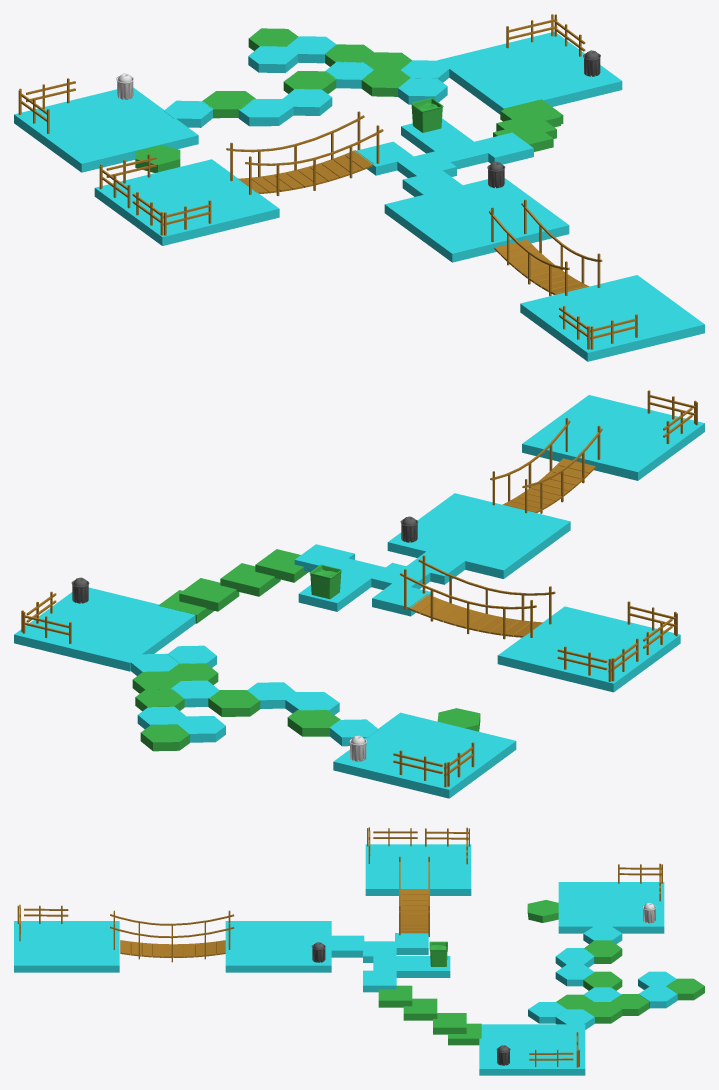
Rendered from level design.fbx.
3 views of the same model, one above another, from view 1: azimuth 30°, elevation 25°; view 2: azimuth 150°, elevation 25°; view 3: azimuth 270°, elevation 25° (orthographic). The views are drawn at different scales.
Visible parts, largest first — view 1: Cube, Cube_23, Cube_2, Cube_1, Cube_8, Cube_1_3, Cube_6, Cube_1_5, Cube_19, Cube_7, Cube_18, Cube_5 (+28 smaller); view 2: Cube_2, Cube_8, Cube, Cube_1, Cube_23, Cube_1_3, Cube_1_5, Cube_6, Cube_8_1, Cube_8_2, Cube_15, Cube_22 (+28 smaller); view 3: Cube, Cube_2, Cube_1, Cube_8, Cube_23, Cube_1_5, Cube_6, Cube_1_3, Cube_3, Cube_5, Cube_7, Cube_8_2 (+25 smaller).
Part boxes in pixels (bbox=[...]): Cube: bbox=[520, 275, 704, 361]; Cube_23: bbox=[14, 87, 198, 172]; Cube_2: bbox=[384, 178, 569, 262]; Cube_1: bbox=[94, 159, 279, 245]; Cube_8: bbox=[437, 31, 622, 114]; Cube_1_3: bbox=[238, 150, 373, 193]; Cube_6: bbox=[401, 118, 488, 169]; Cube_1_5: bbox=[494, 239, 589, 294]; Cube_19: bbox=[238, 98, 293, 126]; Cube_7: bbox=[473, 132, 533, 164]; Cube_18: bbox=[248, 46, 297, 73]; Cube_5: bbox=[354, 141, 414, 175]; Cube_2: bbox=[387, 493, 570, 578]; Cube_8: bbox=[14, 587, 195, 671]; Cube: bbox=[522, 395, 704, 480]; Cube_1: bbox=[497, 606, 680, 692]; Cube_23: bbox=[333, 712, 516, 798]; Cube_1_3: bbox=[408, 594, 543, 637]; Cube_1_5: bbox=[502, 458, 595, 512]; Cube_6: bbox=[298, 558, 385, 611]; Cube_8_1: bbox=[179, 578, 239, 611]; Cube_8_2: bbox=[220, 563, 280, 596]; Cube_15: bbox=[208, 690, 260, 716]; Cube_22: bbox=[140, 724, 189, 751]; Cube: bbox=[14, 921, 119, 972]; Cube_2: bbox=[225, 921, 331, 972]; Cube_1: bbox=[365, 844, 471, 895]; Cube_8: bbox=[479, 1024, 585, 1075]; Cube_23: bbox=[558, 882, 664, 933]; Cube_1_5: bbox=[120, 940, 225, 957]; Cube_6: bbox=[373, 956, 450, 977]; Cube_1_3: bbox=[400, 889, 428, 933]; Cube_3: bbox=[330, 935, 364, 957]; Cube_5: bbox=[395, 933, 428, 954]; Cube_7: bbox=[363, 970, 396, 992]; Cube_8_2: bbox=[403, 998, 437, 1020].
Size of the model in its own units: 909 by 121 by 1307.
